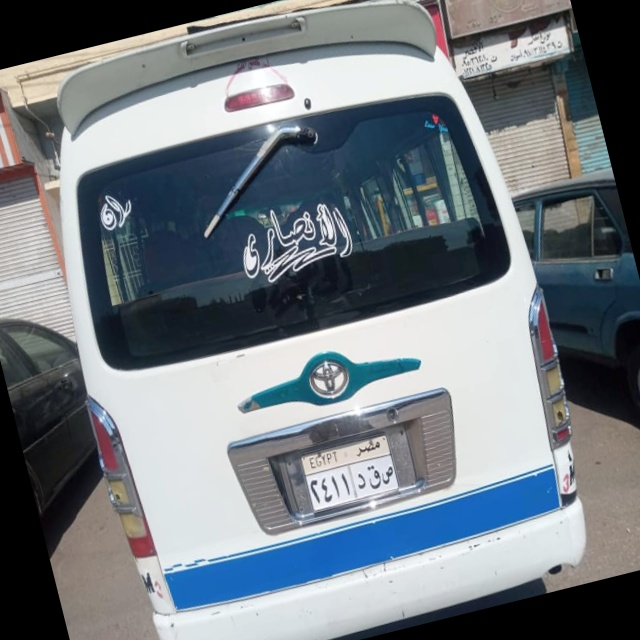License Plate: (299, 431, 403, 515)
